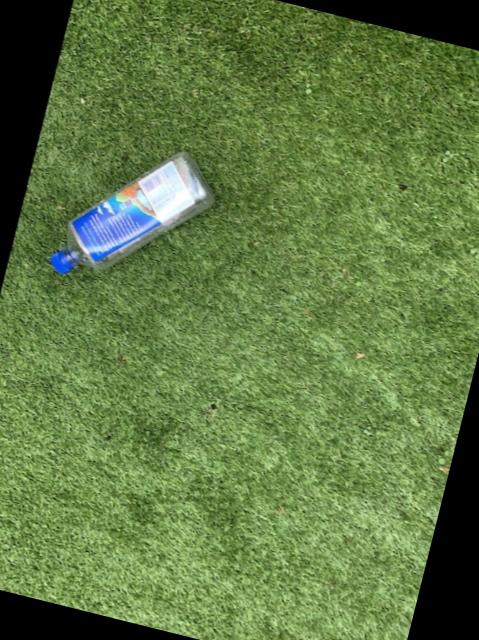plastic: (49, 149, 213, 270)
